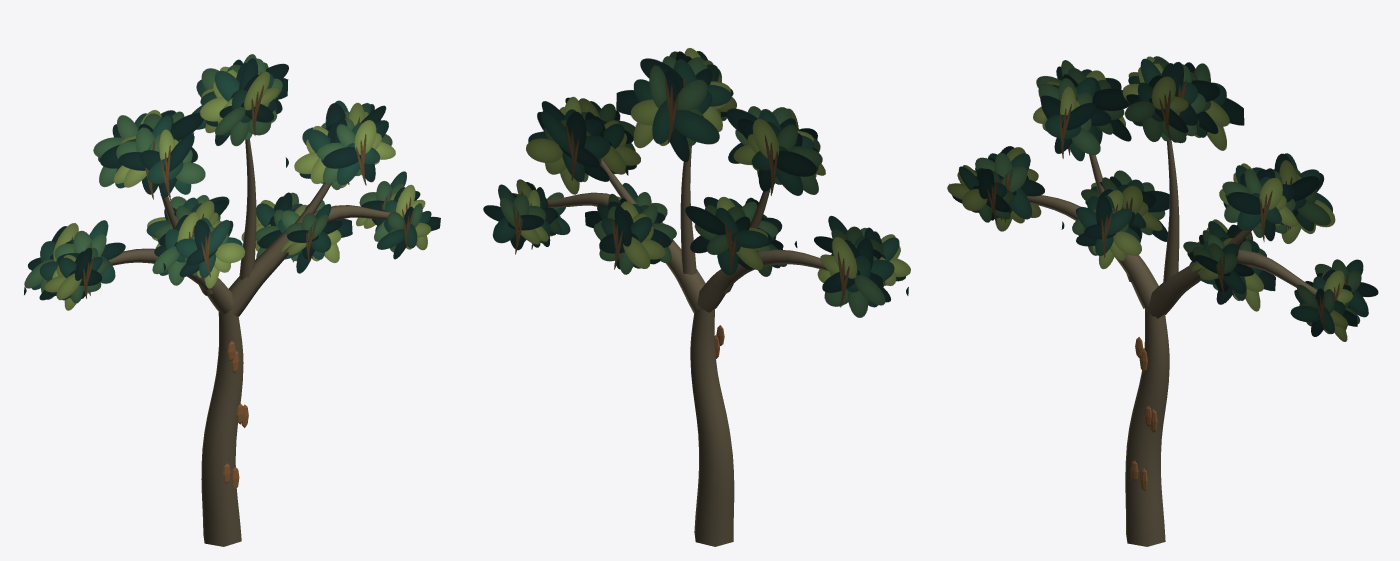
Rendered from TREE_EUCALYPTUS_001_LOD_GAMEPLAY.glb.
The picture shows the model from 3 angles, left to right: view 1: azimuth 30°, elevation 25°; view 2: azimuth 150°, elevation 25°; view 3: azimuth 330°, elevation 25°; orthographic projection. The views are drawn at different scales.
Visible parts, largest first — view 1: GG_EUC_V4_MAIN_TRUNK, GG_EUC_FRONT_ISLAND_03_CLUSTER_00, GG_EUC_FRONT_ISLAND_05_CLUSTER_00, GG_EUC_FRONT_ISLAND_02_CLUSTER_00, GG_EUC_FRONT_ISLAND_01_CLUSTER_00, GG_EUC_V4_RIGHT_PRIMARY, GG_EUC_FRONT_ISLAND_00_CLUSTER_00, GG_EUC_BODY_ISLAND_02_CLUSTER_01, GG_EUC_BODY_ISLAND_01_CLUSTER_00, GG_EUC_FRONT_ISLAND_04_CLUSTER_00, GG_EUC_FRONT_ISLAND_06_CLUSTER_00, GG_EUC_REAR_ISLAND_01_CLUSTER_00 (+19 smaller); view 2: GG_EUC_V4_MAIN_TRUNK, GG_EUC_REAR_ISLAND_02_CLUSTER_00, GG_EUC_REAR_ISLAND_01_CLUSTER_00, GG_EUC_REAR_ISLAND_03_CLUSTER_00, GG_EUC_REAR_ISLAND_05_CLUSTER_00, GG_EUC_REAR_ISLAND_00_CLUSTER_00, GG_EUC_REAR_ISLAND_06_CLUSTER_00, GG_EUC_REAR_ISLAND_04_CLUSTER_00, GG_EUC_BODY_ISLAND_02_CLUSTER_00, GG_EUC_V4_LEFT_PRIMARY, GG_EUC_V4_RIGHT_PRIMARY, GG_EUC_BODY_ISLAND_01_CLUSTER_01 (+11 smaller); view 3: GG_EUC_V4_MAIN_TRUNK, GG_EUC_FRONT_ISLAND_03_CLUSTER_00, GG_EUC_FRONT_ISLAND_05_CLUSTER_00, GG_EUC_FRONT_ISLAND_02_CLUSTER_00, GG_EUC_FRONT_ISLAND_01_CLUSTER_00, GG_EUC_FRONT_ISLAND_00_CLUSTER_00, GG_EUC_V4_RIGHT_PRIMARY, GG_EUC_FRONT_ISLAND_04_CLUSTER_00, GG_EUC_BODY_ISLAND_02_CLUSTER_01, GG_EUC_BODY_ISLAND_00_CLUSTER_01, GG_EUC_FRONT_ISLAND_06_CLUSTER_00, GG_EUC_BODY_ISLAND_01_CLUSTER_01 (+16 smaller).
Part boxes in pixels (bbox=[...]): GG_EUC_V4_MAIN_TRUNK: bbox=[201, 311, 243, 546]; GG_EUC_FRONT_ISLAND_03_CLUSTER_00: bbox=[316, 120, 395, 185]; GG_EUC_FRONT_ISLAND_05_CLUSTER_00: bbox=[163, 217, 245, 288]; GG_EUC_FRONT_ISLAND_02_CLUSTER_00: bbox=[215, 71, 279, 146]; GG_EUC_FRONT_ISLAND_01_CLUSTER_00: bbox=[140, 129, 205, 200]; GG_EUC_V4_RIGHT_PRIMARY: bbox=[228, 205, 399, 316]; GG_EUC_FRONT_ISLAND_00_CLUSTER_00: bbox=[44, 247, 108, 303]; GG_EUC_BODY_ISLAND_02_CLUSTER_01: bbox=[200, 58, 282, 139]; GG_EUC_BODY_ISLAND_01_CLUSTER_00: bbox=[113, 116, 179, 199]; GG_EUC_FRONT_ISLAND_04_CLUSTER_00: bbox=[377, 203, 440, 259]; GG_EUC_FRONT_ISLAND_06_CLUSTER_00: bbox=[281, 204, 342, 262]; GG_EUC_REAR_ISLAND_01_CLUSTER_00: bbox=[93, 110, 176, 188]; GG_EUC_V4_MAIN_TRUNK: bbox=[690, 308, 734, 546]; GG_EUC_REAR_ISLAND_02_CLUSTER_00: bbox=[616, 65, 719, 161]; GG_EUC_REAR_ISLAND_01_CLUSTER_00: bbox=[733, 118, 822, 195]; GG_EUC_REAR_ISLAND_03_CLUSTER_00: bbox=[526, 109, 628, 194]; GG_EUC_REAR_ISLAND_05_CLUSTER_00: bbox=[685, 205, 768, 275]; GG_EUC_REAR_ISLAND_00_CLUSTER_00: bbox=[820, 237, 885, 317]; GG_EUC_REAR_ISLAND_06_CLUSTER_00: bbox=[593, 206, 665, 274]; GG_EUC_REAR_ISLAND_04_CLUSTER_00: bbox=[483, 184, 548, 254]; GG_EUC_BODY_ISLAND_02_CLUSTER_00: bbox=[640, 56, 731, 131]; GG_EUC_V4_LEFT_PRIMARY: bbox=[697, 249, 828, 312]; GG_EUC_V4_RIGHT_PRIMARY: bbox=[547, 192, 705, 313]; GG_EUC_BODY_ISLAND_01_CLUSTER_01: bbox=[726, 106, 814, 184]; GG_EUC_V4_MAIN_TRUNK: bbox=[1125, 308, 1169, 546]; GG_EUC_FRONT_ISLAND_03_CLUSTER_00: bbox=[1222, 168, 1297, 241]; GG_EUC_FRONT_ISLAND_05_CLUSTER_00: bbox=[1061, 195, 1141, 269]; GG_EUC_FRONT_ISLAND_02_CLUSTER_00: bbox=[1124, 75, 1188, 143]; GG_EUC_FRONT_ISLAND_01_CLUSTER_00: bbox=[1041, 86, 1100, 161]; GG_EUC_FRONT_ISLAND_00_CLUSTER_00: bbox=[947, 165, 1014, 222]; GG_EUC_V4_RIGHT_PRIMARY: bbox=[1145, 249, 1317, 318]; GG_EUC_FRONT_ISLAND_04_CLUSTER_00: bbox=[1290, 285, 1357, 341]; GG_EUC_BODY_ISLAND_02_CLUSTER_01: bbox=[1122, 56, 1206, 141]; GG_EUC_BODY_ISLAND_00_CLUSTER_01: bbox=[975, 152, 1044, 222]; GG_EUC_FRONT_ISLAND_06_CLUSTER_00: bbox=[1191, 243, 1254, 296]; GG_EUC_BODY_ISLAND_01_CLUSTER_01: bbox=[1045, 68, 1131, 144].
Size of the model in its own units: 6.18 by 7.03 by 0.8485.
Materials: 3 (1 with a texture image).
